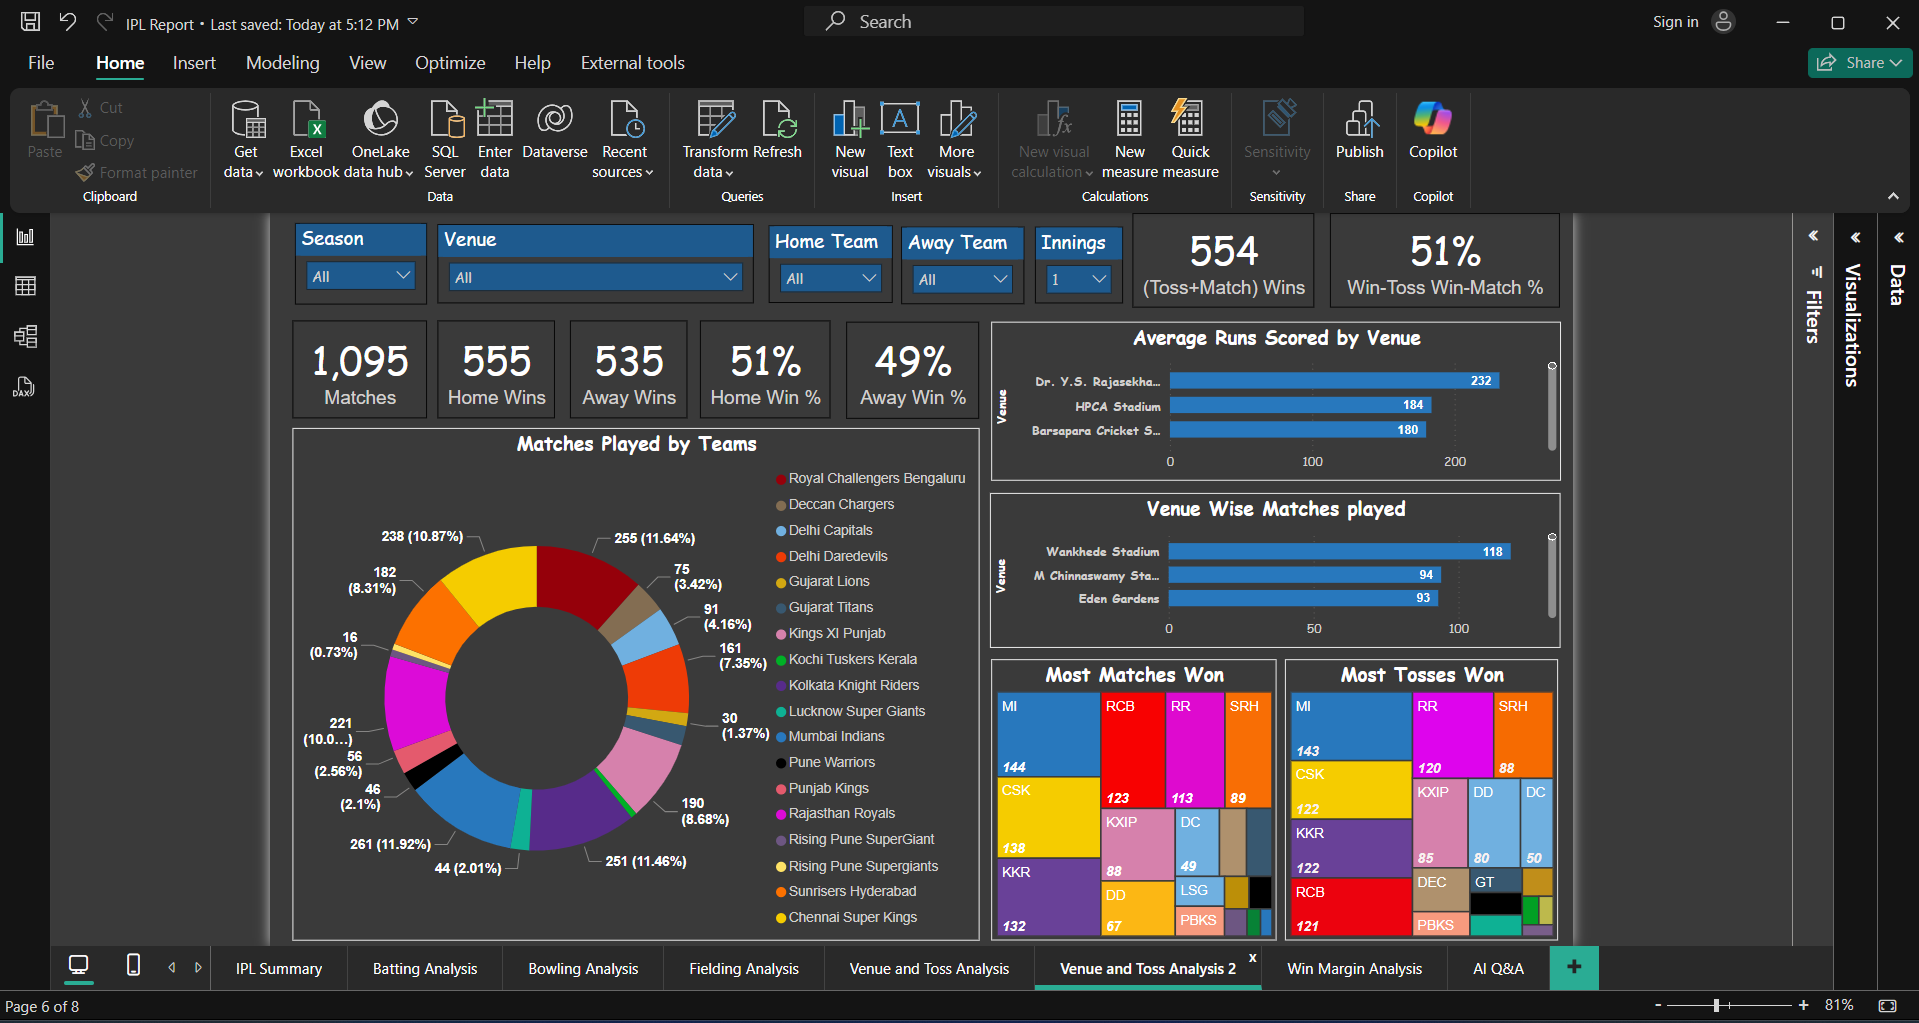

What the dashboard file says about the page in this screenshot:
{"tool":"powerbi","page":{"name":"Venue and Toss Analysis 2","canvas":[1280,720],"ordinal":5},"visuals":[{"type":"donutChart","title":"Matches Played by Teams","fields":{"Y":["Sum(IPL_Matches.Royal Challengers Bengaluru)","Sum(IPL_Matches.Deccan Chargers)","Sum(IPL_Matches.Delhi Capitals)","Sum(IPL_Matches.Delhi Daredevils)","Sum(IPL_Matches.Gujarat Lions)","Sum(IPL_Matches.Gujarat Titans)","Sum(IPL_Matches.Kings XI Punjab)","Sum(IPL_Matches.Kochi Tuskers Kerala)","Sum(IPL_Matches.Kolkata Knight Riders)","Sum(IPL_Matches.Lucknow Super Giants)","Sum(IPL_Matches.Mumbai Indians)","Sum(IPL_Matches.Pune Warriors)"]},"box":[21.7,211.1,674.2,502.9],"z":0},{"type":"slicer","title":"Home Team","fields":{"Values":["IPL_Matches.Home Team (SF)"]},"box":[489.4,12.7,121.7,76.1],"z":1000},{"type":"slicer","title":"Away Team","fields":{"Values":["IPL_Matches.Away Team (SF)"]},"box":[620,13.9,120.4,76.1],"z":2000},{"type":"card","fields":{"Values":["Count(IPL_Ball_by_Ball.ID)"]},"box":[21.6,105.2,131.9,96.4],"z":3000},{"type":"slicer","title":"Season","fields":{"Values":["IPL_Matches.Season"]},"box":[24.1,10.1,129.3,79.9],"z":4000},{"type":"slicer","title":"Venue","fields":{"Values":["IPL_Matches.Venue"]},"box":[164.8,11.4,310.6,77.3],"z":5000},{"type":"card","fields":{"Values":["IPL_Matches.WTWM %"]},"box":[1040.9,0,225.7,92.6],"z":6000},{"type":"clusteredBarChart","title":"Venue Wise Matches played","fields":{"Category":["IPL_Matches.Venue"],"Y":["CountNonNull(IPL_Matches.ID)"]},"box":[706.2,275.1,560.4,152.1],"z":7000},{"type":"clusteredBarChart","title":"Average Runs Scored by Venue","fields":{"Category":["IPL_Matches.Venue"],"Y":["IPL_Ball_by_Ball.Average Runs Scored"]},"box":[707.5,106.5,559.1,155.9],"z":8000},{"type":"slicer","title":"Innings","fields":{"Values":["IPL_Ball_by_Ball.Innings"]},"box":[750.6,13.9,86.2,74.8],"z":9000},{"type":"treemap","title":"Most Matches Won","fields":{"Group":["IPL_Matches.Winning Team (SF)"],"Values":["CountNonNull(IPL_Matches.ID)"]},"box":[707.9,437.8,279.8,276.2],"z":10000},{"type":"treemap","title":"Most Tosses Won","fields":{"Values":["CountNonNull(IPL_Matches.TossWinner)"],"Group":["IPL_Matches.Toss Winner (SF)"]},"box":[996.2,437.8,267.7,276.2],"z":11000},{"type":"card","fields":{"Values":["Sum(IPL_Matches.IsTossWinnerMatchWinner)"]},"box":[846.9,0,178.8,92.6],"z":12000},{"type":"card","fields":{"Values":["Sum(IPL_Matches.IsHomeTeamWinner)"]},"box":[164.8,105.2,115.4,96.4],"z":13000},{"type":"card","fields":{"Values":["Sum(IPL_Matches.IsAwayTeamWinner)"]},"box":[294.1,105.2,115.4,96.4],"z":14000},{"type":"card","fields":{"Values":["IPL_Matches.Home Win %"]},"box":[422.2,105.2,128.1,96.4],"z":15000},{"type":"card","fields":{"Values":["IPL_Matches.Away Win %"]},"box":[565.5,106.5,130.6,95.1],"z":16000}]}

Visuals, with their boxes on the page's 1280x720 design canvas (x1, y1, x2, y2). These are canvas units, not pixel positions in the 1919x1023 screenshot, which may show the page scaled, cropped or inside an application window:
"Matches Played by Teams" donutChart: bbox=(22, 211, 696, 714)
"Home Team" slicer: bbox=(489, 13, 611, 89)
"Away Team" slicer: bbox=(620, 14, 740, 90)
card - Count(IPL_Ball_by_Ball.ID): bbox=(22, 105, 154, 202)
"Season" slicer: bbox=(24, 10, 153, 90)
"Venue" slicer: bbox=(165, 11, 475, 89)
card - IPL_Matches.WTWM %: bbox=(1041, 0, 1267, 93)
"Venue Wise Matches played" clusteredBarChart: bbox=(706, 275, 1267, 427)
"Average Runs Scored by Venue" clusteredBarChart: bbox=(708, 106, 1267, 262)
"Innings" slicer: bbox=(751, 14, 837, 89)
"Most Matches Won" treemap: bbox=(708, 438, 988, 714)
"Most Tosses Won" treemap: bbox=(996, 438, 1264, 714)
card - Sum(IPL_Matches.IsTossWinnerMatchWinner): bbox=(847, 0, 1026, 93)
card - Sum(IPL_Matches.IsHomeTeamWinner): bbox=(165, 105, 280, 202)
card - Sum(IPL_Matches.IsAwayTeamWinner): bbox=(294, 105, 410, 202)
card - IPL_Matches.Home Win %: bbox=(422, 105, 550, 202)
card - IPL_Matches.Away Win %: bbox=(566, 106, 696, 202)
